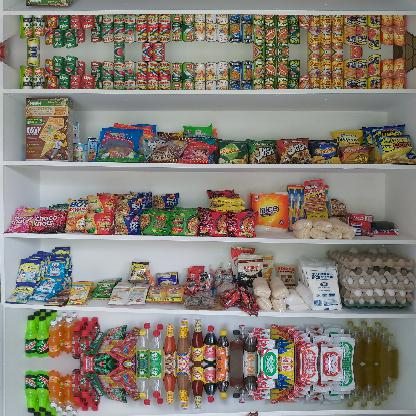Koko-Krunch: (26, 97, 72, 161)
